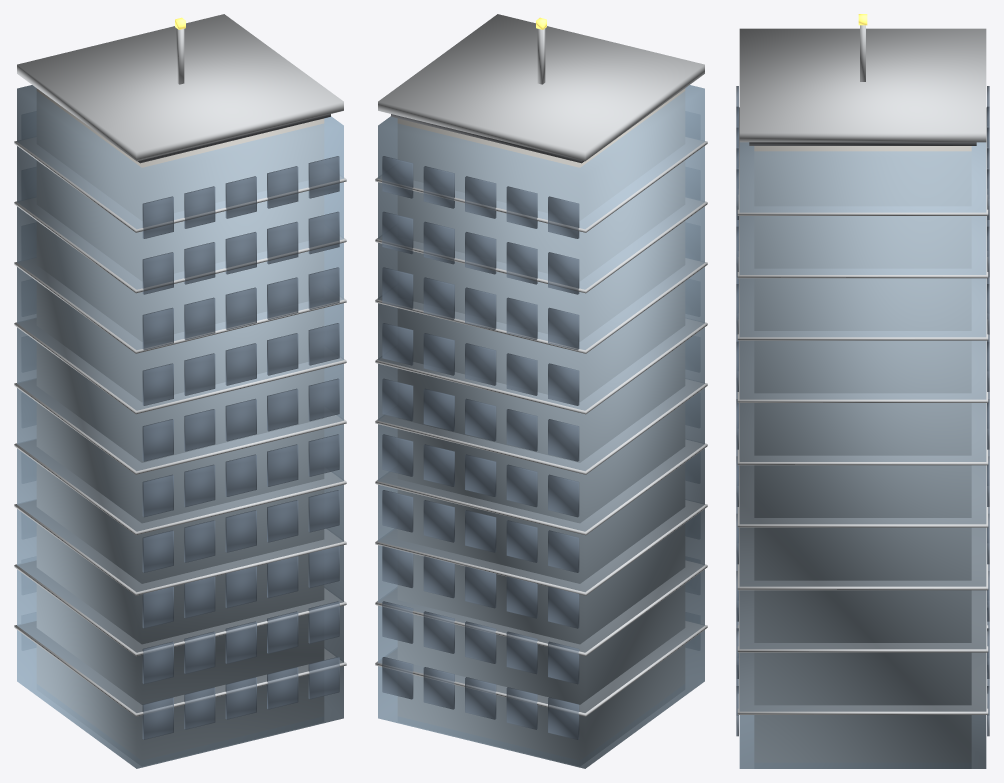
Rendered from sky-tower-a.glb.
3 renders of one model, left to right at view 1: azimuth 30°, elevation 25°; view 2: azimuth 150°, elevation 25°; view 3: azimuth 270°, elevation 25°, orthographic. The views are drawn at different scales.
Visible parts, largest first — view 1: CC_SkyTowerA_Shell, CC_SkyTowerA_Body, CC_SkyTowerA_Windows, CC_SkyTowerA_Ribs, CC_SkyTowerA_Parapet, CC_SkyTowerA_Roof; view 2: CC_SkyTowerA_Shell, CC_SkyTowerA_Body, CC_SkyTowerA_N_Windows, CC_SkyTowerA_Ribs, CC_SkyTowerA_Parapet, CC_SkyTowerA_Roof; view 3: CC_SkyTowerA_Shell, CC_SkyTowerA_Body, CC_SkyTowerA_Ribs, CC_SkyTowerA_Parapet, CC_SkyTowerA_N_Windows, CC_SkyTowerA_Windows, CC_SkyTowerA_Roof.
Part boxes in pixels (x1,y1,x2,y2): CC_SkyTowerA_Shell: [17, 85, 343, 768]; CC_SkyTowerA_Body: [36, 88, 324, 760]; CC_SkyTowerA_Windows: [142, 156, 339, 739]; CC_SkyTowerA_Ribs: [14, 137, 346, 716]; CC_SkyTowerA_Parapet: [17, 14, 343, 161]; CC_SkyTowerA_Roof: [137, 114, 330, 163]; CC_SkyTowerA_Shell: [378, 85, 704, 768]; CC_SkyTowerA_Body: [397, 88, 685, 760]; CC_SkyTowerA_N_Windows: [382, 156, 579, 739]; CC_SkyTowerA_Ribs: [375, 137, 707, 716]; CC_SkyTowerA_Parapet: [378, 14, 704, 161]; CC_SkyTowerA_Roof: [391, 114, 584, 163]; CC_SkyTowerA_Shell: [739, 142, 986, 768]; CC_SkyTowerA_Body: [754, 146, 971, 762]; CC_SkyTowerA_Ribs: [737, 107, 988, 714]; CC_SkyTowerA_Parapet: [739, 28, 986, 142]; CC_SkyTowerA_N_Windows: [987, 86, 989, 736]; CC_SkyTowerA_Windows: [736, 86, 738, 736]; CC_SkyTowerA_Roof: [749, 142, 976, 145].
Bounding box in the file's own units: 5.28 × 16.44 × 5.34.
